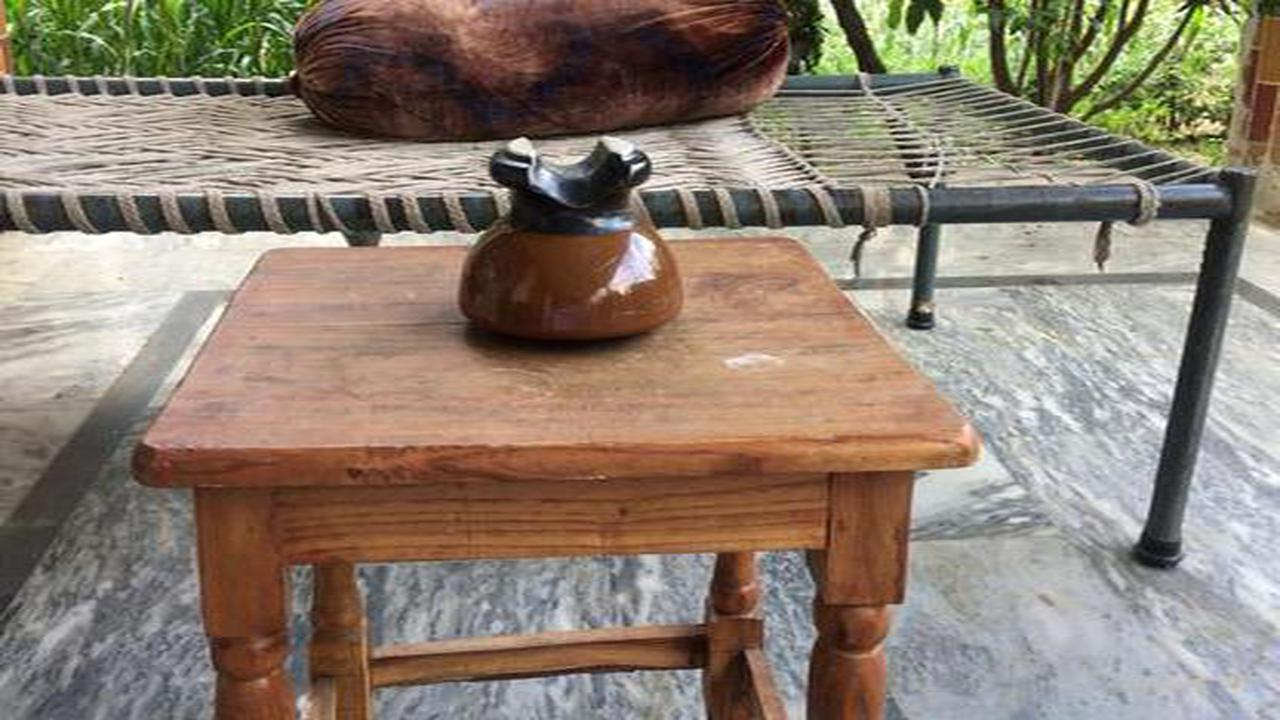insulator_pin: (441, 116, 699, 367)
